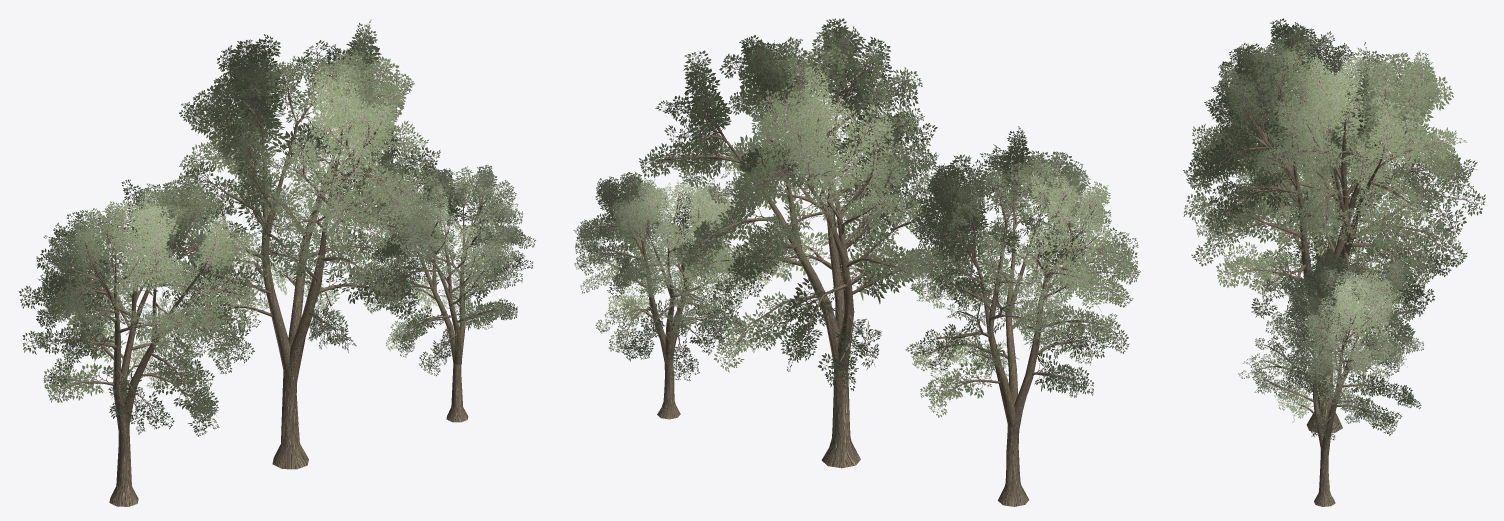
File: V2_Tall_Trees_1A1.fbx
The picture shows the model from 3 angles, left to right: view 1: azimuth 30°, elevation 25°; view 2: azimuth 150°, elevation 25°; view 3: azimuth 270°, elevation 25°; orthographic projection. The views are drawn at different scales.
Visible parts, largest first — view 1: tree.027, tree.023, tree.030, tree.029, tree.026, tree.032; view 2: tree.027, tree.023, tree.030, tree.029, tree.026, tree.032; view 3: tree.027, tree.030, tree.023, tree.029, tree.032.
Part boxes in pixels (x1,y1,x2,y2): tree.027: (145,19,443,469); tree.023: (19,174,267,506); tree.030: (350,163,535,422); tree.029: (172,61,425,469); tree.026: (51,199,245,506); tree.032: (365,183,514,422); tree.027: (639,18,968,468); tree.023: (891,126,1140,506); tree.030: (573,172,751,419); tree.029: (661,59,938,468); tree.026: (919,166,1123,506); tree.032: (584,188,726,419); tree.027: (1183,42,1485,433); tree.030: (1238,253,1423,506); tree.023: (1192,18,1438,344); tree.029: (1211,76,1457,433); tree.032: (1256,281,1411,506).
Size of the model in its own units: 3113 by 2311 by 1677.
